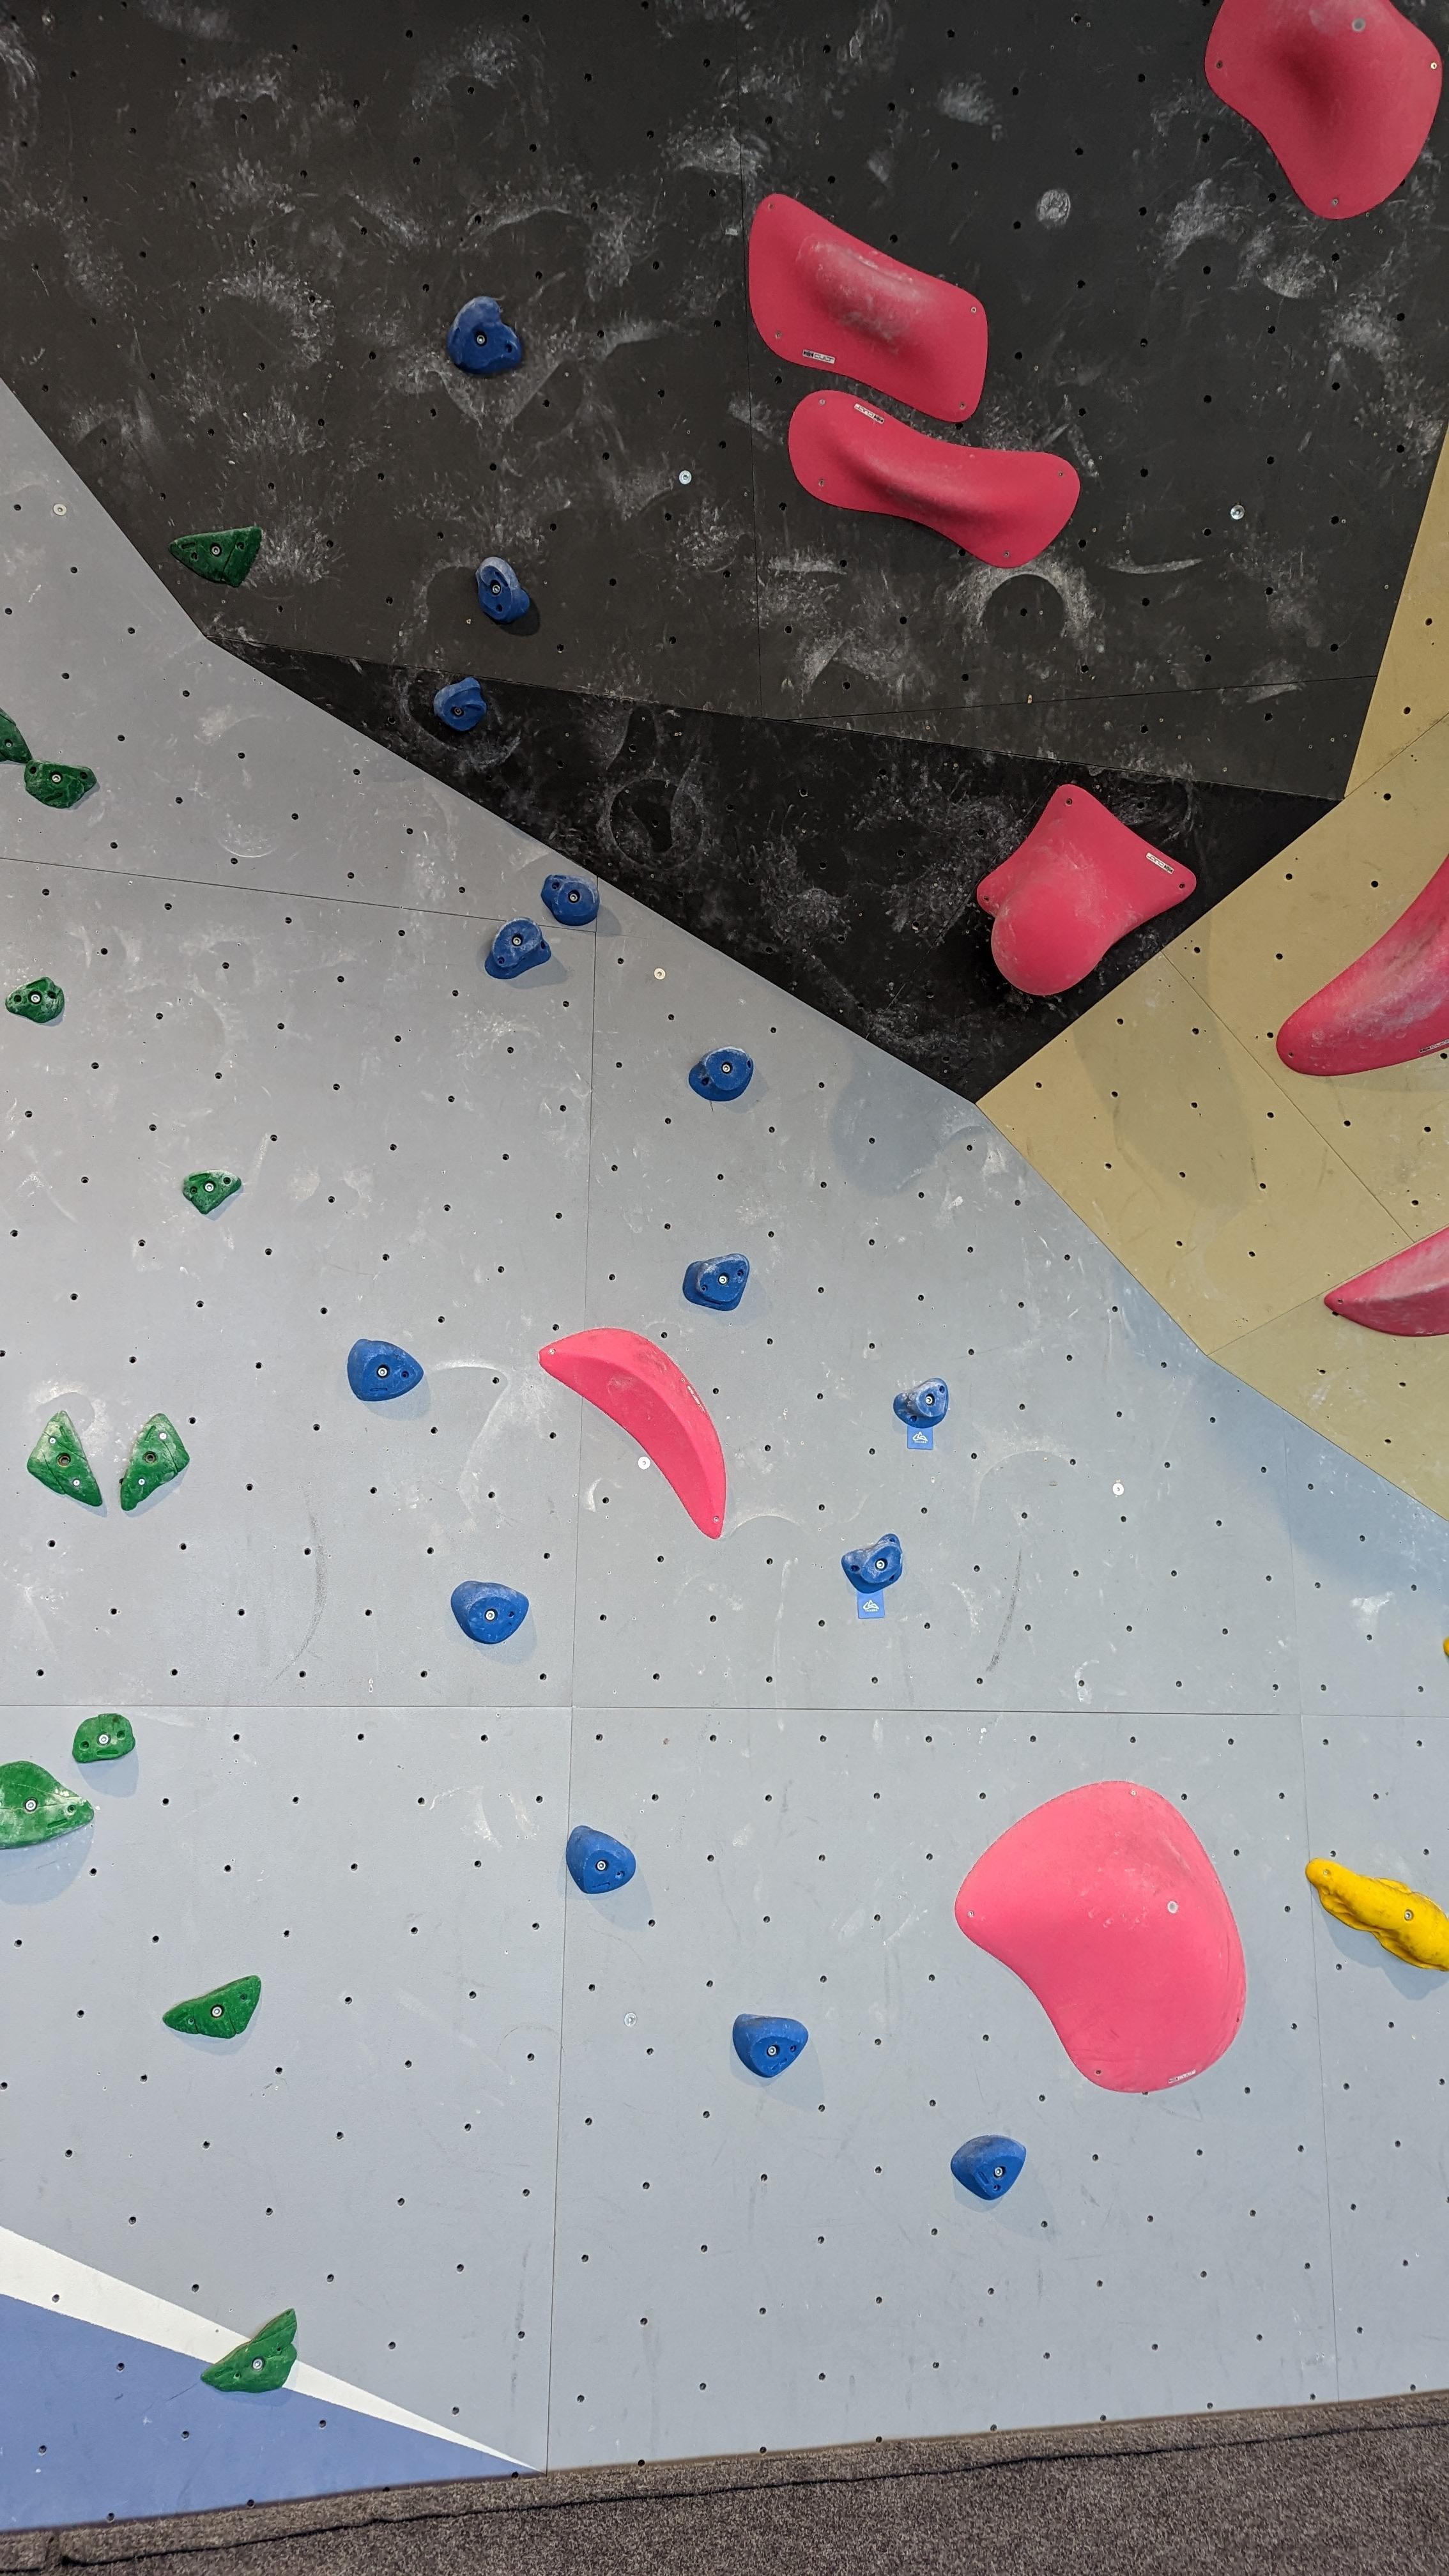hold: (955, 1782, 1247, 2093), (748, 193, 987, 423), (789, 389, 1081, 568), (1205, 0, 1442, 219), (977, 784, 1196, 994), (538, 1329, 725, 1539), (1276, 853, 1449, 1077), (1306, 1858, 1449, 1973), (1323, 1226, 1449, 1338), (0, 1760, 96, 1849), (202, 2309, 297, 2394), (27, 1410, 103, 1506), (120, 1414, 189, 1511), (163, 1974, 262, 2038), (446, 295, 522, 373), (168, 525, 262, 587), (950, 2134, 1026, 2201), (732, 2013, 809, 2077), (451, 1582, 529, 1644), (347, 1339, 425, 1401), (566, 1826, 635, 1893), (485, 916, 550, 980), (683, 1253, 750, 1311), (842, 1532, 904, 1592), (476, 557, 531, 625), (23, 759, 97, 809), (688, 1046, 754, 1100), (73, 1713, 136, 1764), (541, 874, 600, 925), (433, 678, 487, 731), (5, 977, 65, 1023), (893, 1378, 948, 1428), (182, 1169, 242, 1214), (0, 706, 32, 763)
